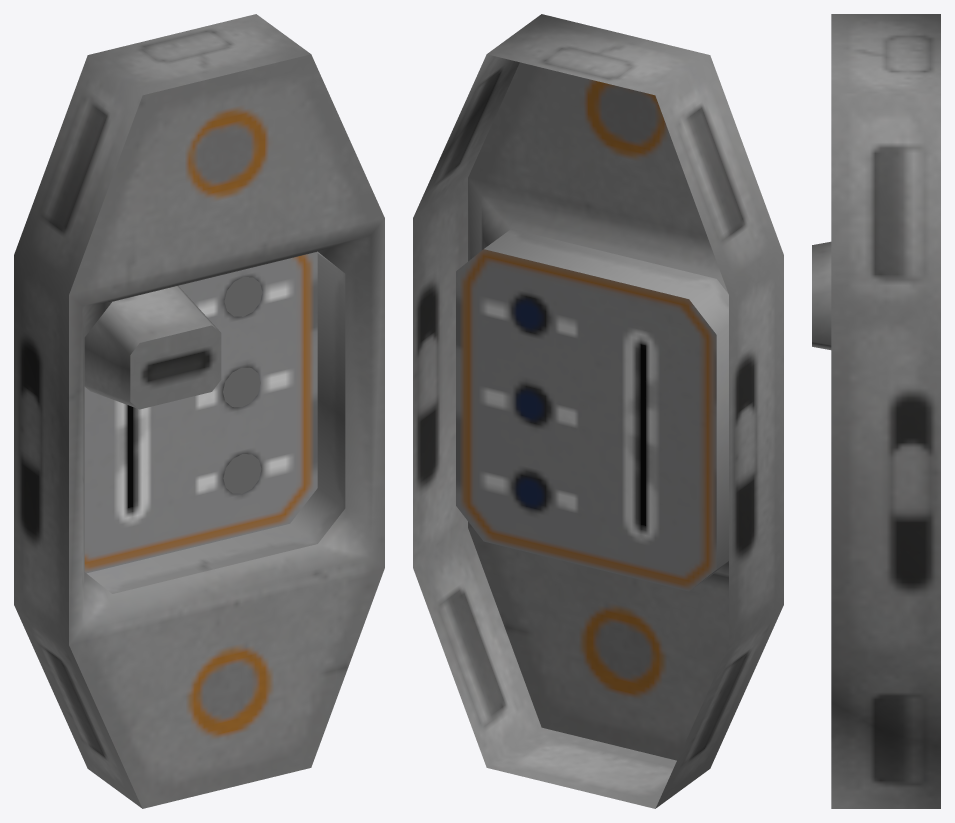
Rendered from Switch B1A.fbx.
The picture shows the model from 3 angles, left to right: view 1: azimuth 30°, elevation 25°; view 2: azimuth 150°, elevation 25°; view 3: azimuth 270°, elevation 25°; orthographic projection.
Visible parts, largest first — view 1: Switch B1A, SwitchHandle B1A, Switch B1A Light2, Switch B1A Light3, Switch B1A Light1; view 2: Switch B1A; view 3: Switch B1A, SwitchHandle B1A.
Boxes of the visible parts, left/top/right/bottom form: Switch B1A: left=14, top=14, right=384, bottom=808; SwitchHandle B1A: left=84, top=286, right=221, bottom=409; Switch B1A Light2: left=223, top=367, right=260, bottom=407; Switch B1A Light3: left=223, top=454, right=261, bottom=493; Switch B1A Light1: left=224, top=277, right=262, bottom=316; Switch B1A: left=413, top=14, right=783, bottom=808; Switch B1A: left=831, top=14, right=940, bottom=808; SwitchHandle B1A: left=812, top=241, right=831, bottom=349.
Bounding box in the file's own units: 4.47 × 9.65 × 1.58.
2 materials, 1 textured.
